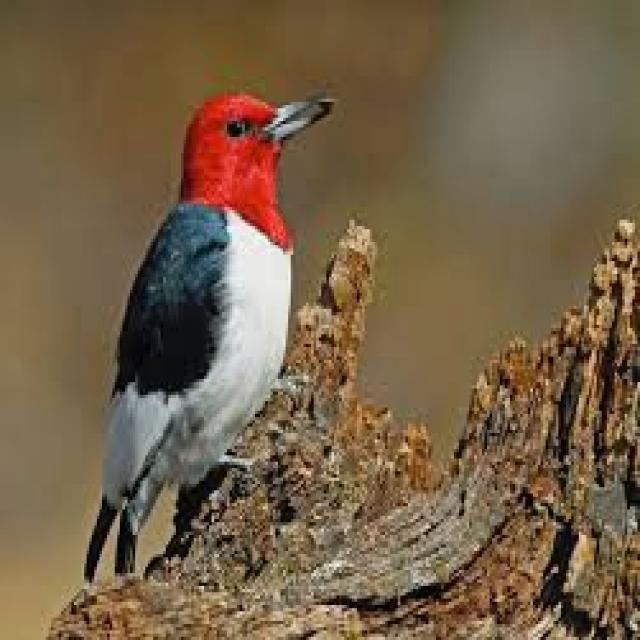woodpecker: (84, 92, 331, 580)
